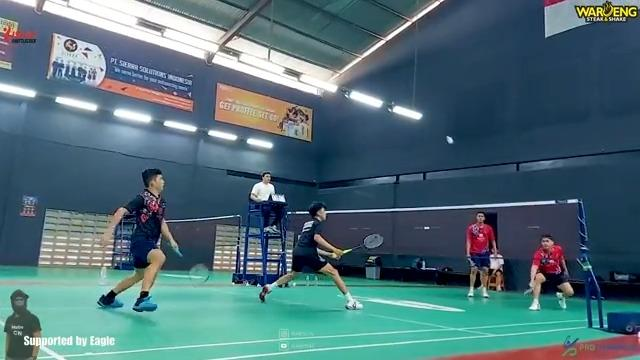Shuttlecock: (445, 134, 457, 148)
